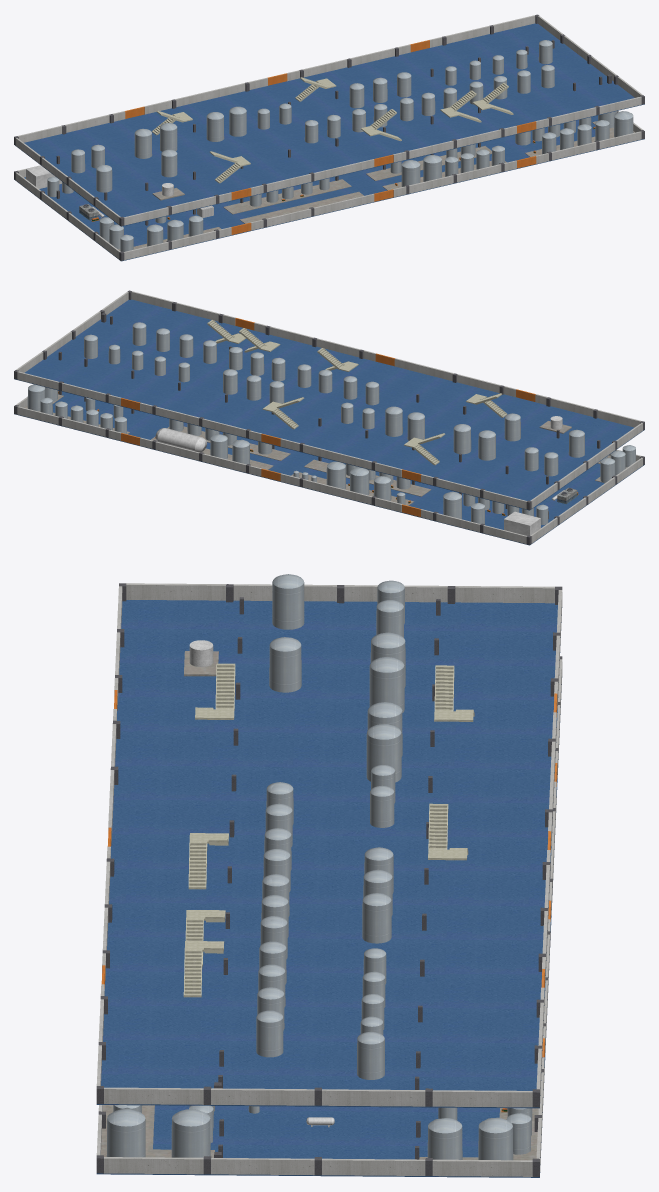
File: tileset.gltf
3 views of the same model, one above another, from view 1: azimuth 30°, elevation 25°; view 2: azimuth 150°, elevation 25°; view 3: azimuth 270°, elevation 25° (orthographic). The views are drawn at different scales.
Visible parts, largest first — view 1: 401工段-2F-2F, 401工段-2F-1F; view 2: 401工段-2F-2F, 401工段-2F-1F; view 3: 401工段-2F-2F, 401工段-2F-1F.
Part boxes in pixels (x1,y1,x2,y2): 401工段-2F-2F: [14, 14, 644, 226]; 401工段-2F-1F: [14, 111, 644, 261]; 401工段-2F-2F: [14, 290, 644, 510]; 401工段-2F-1F: [14, 384, 644, 545]; 401工段-2F-2F: [96, 574, 562, 1108]; 401工段-2F-1F: [96, 656, 562, 1177].
Size of the model in its own units: 80.88 by 8.93 by 31.26.
Materials: 15 (15 with a texture image).
